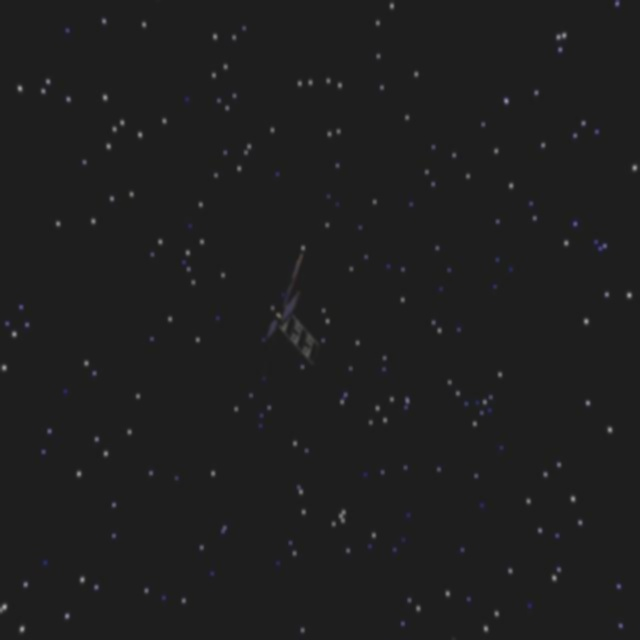medium_debris: (262, 257, 316, 367)
